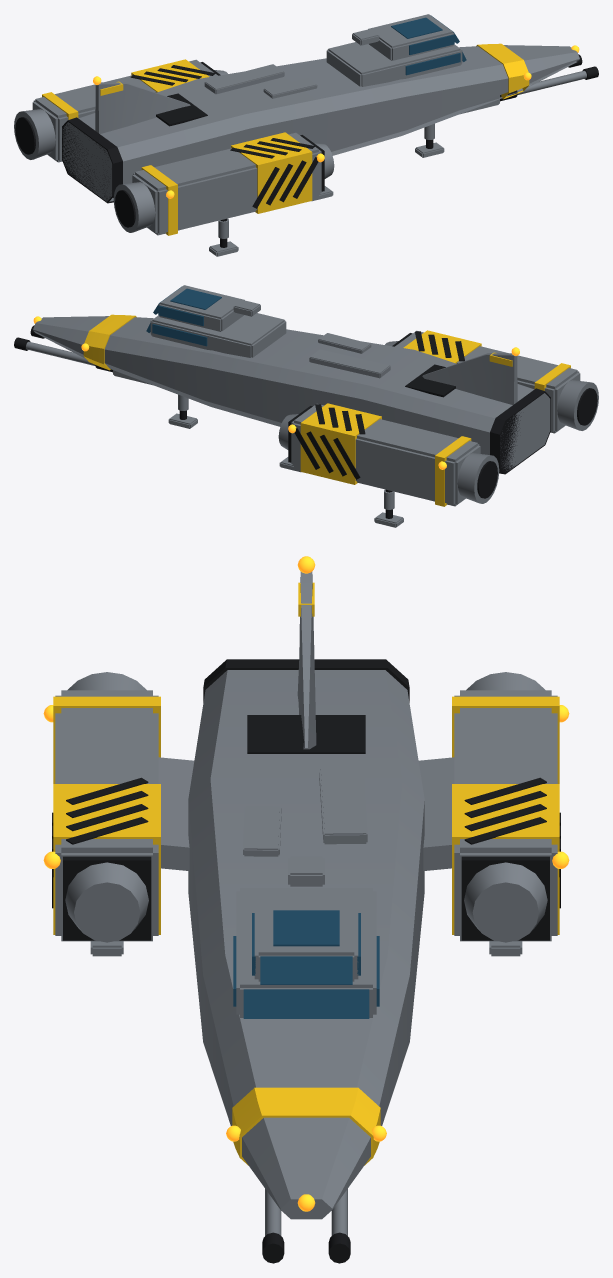
Rendered from gunship.glb.
The picture shows the model from 3 angles, top to bottom: view 1: azimuth 30°, elevation 25°; view 2: azimuth 150°, elevation 25°; view 3: azimuth 270°, elevation 25°; orthographic projection. The views are drawn at different scales.
Parts seen in each view (by area): view 1: gunship_gunmetal, gunship_hazard_black, gunship_hazard_yellow, gunship_dark_glass; view 2: gunship_gunmetal, gunship_hazard_yellow, gunship_hazard_black, gunship_dark_glass; view 3: gunship_gunmetal, gunship_hazard_yellow, gunship_hazard_black, gunship_dark_glass, gunship_running_light.
Boxes of the visible parts, x1,y1,x2,y2 form: gunship_gunmetal: (14,14,586,256); gunship_hazard_black: (15,54,598,247); gunship_hazard_yellow: (42,43,529,235); gunship_dark_glass: (391,15,466,75); gunship_gunmetal: (26,285,598,527); gunship_hazard_yellow: (83,314,570,506); gunship_hazard_black: (14,325,597,518); gunship_dark_glass: (146,286,221,346); gunship_gunmetal: (55,571,557,1235); gunship_hazard_yellow: (53,582,559,1165); gunship_hazard_black: (52,659,560,1263); gunship_dark_glass: (233,910,379,1018); gunship_running_light: (43,556,569,1211).
Size of the model in its own units: 16.05 by 4.7 by 7.12.
